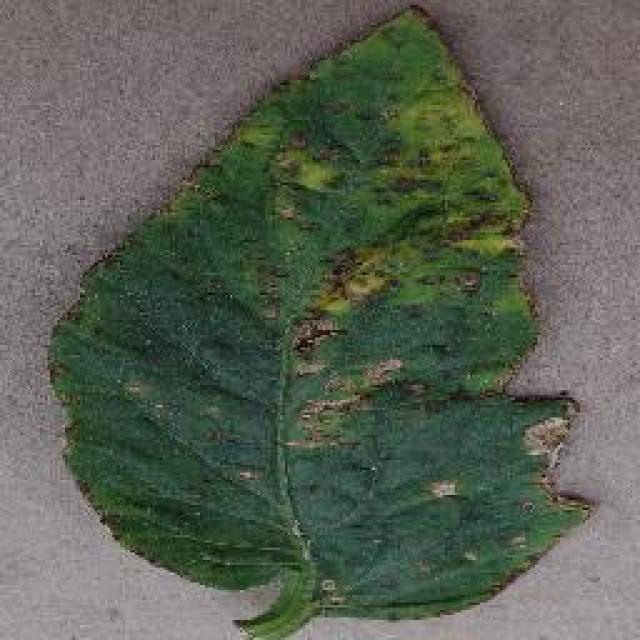Tomato___Bacterial_spot: (45, 4, 596, 638)
